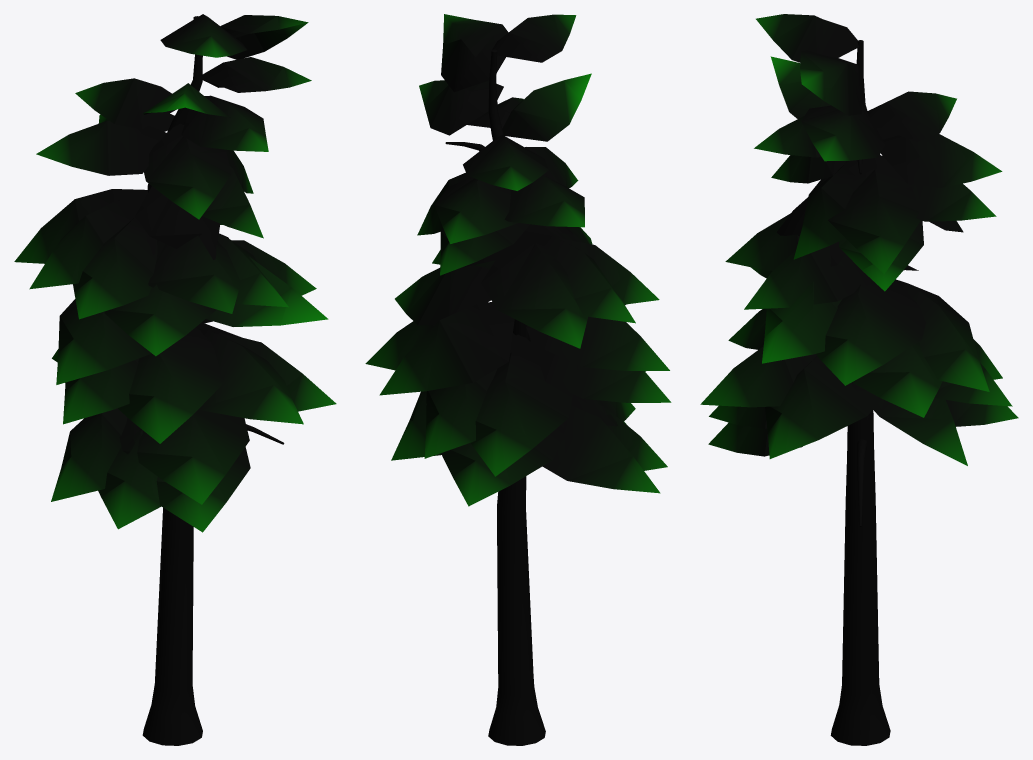
Rendered from SM_Tree_03_Large.fbx.
3 renders of one model, left to right at view 1: azimuth 30°, elevation 25°; view 2: azimuth 150°, elevation 25°; view 3: azimuth 270°, elevation 25°, orthographic. The views are drawn at different scales.
Parts seen in each view (by area): view 1: SM_Tree_03_Large; view 2: SM_Tree_03_Large; view 3: SM_Tree_03_Large.
Part boxes in pixels (left/top/right/bottom): SM_Tree_03_Large: left=14, top=14, right=336, bottom=745; SM_Tree_03_Large: left=365, top=14, right=671, bottom=745; SM_Tree_03_Large: left=700, top=14, right=1018, bottom=745.
Size of the model in its own units: 509 by 1293 by 516.
